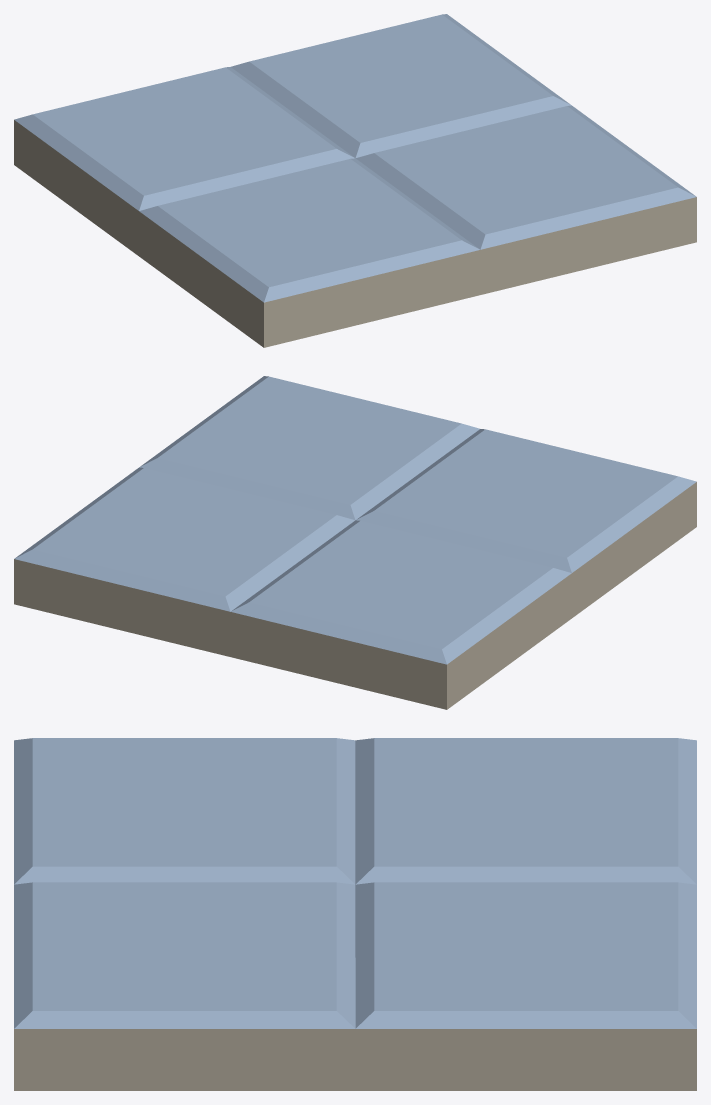
File: Mesh_GroundCeramic_D1.fbx
The picture shows the model from 3 angles, top to bottom: view 1: azimuth 30°, elevation 25°; view 2: azimuth 150°, elevation 25°; view 3: azimuth 270°, elevation 25°; orthographic projection. The views are drawn at different scales.
Parts seen in each view (by area): view 1: Mesh_GroundCeramic_D1; view 2: Mesh_GroundCeramic_D1; view 3: Mesh_GroundCeramic_D1.
Part boxes in pixels (x1,y1,x2,y2): Mesh_GroundCeramic_D1: [14, 14, 696, 347]; Mesh_GroundCeramic_D1: [14, 376, 696, 709]; Mesh_GroundCeramic_D1: [14, 738, 696, 1090].
Bounding box in the file's own units: 1 × 0.1164 × 1.
